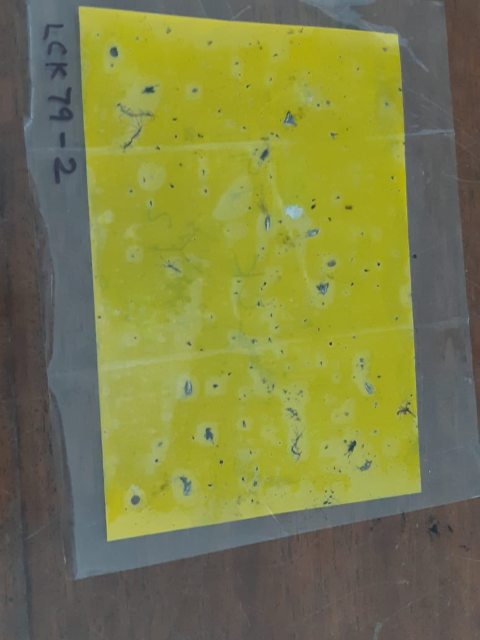DBM: (280, 109, 297, 127), (313, 282, 331, 297), (183, 378, 194, 398), (261, 213, 272, 231), (362, 380, 375, 395), (182, 480, 193, 497), (304, 229, 319, 239)
